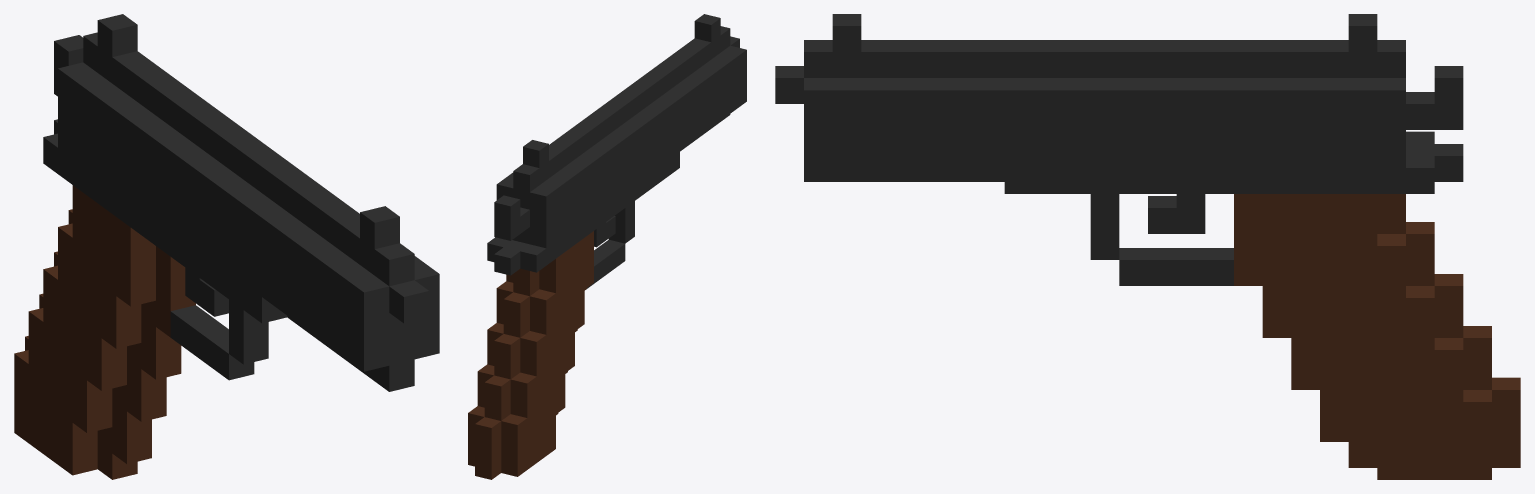
Rendered from Colt 1911.obj.
The picture shows the model from 3 angles, left to right: view 1: azimuth 30°, elevation 25°; view 2: azimuth 150°, elevation 25°; view 3: azimuth 270°, elevation 25°; orthographic projection. The views are drawn at different scales.
Size of the model in its own units: 0.3 by 1.7 by 2.6.
Materials: 1 (1 with a texture image).
